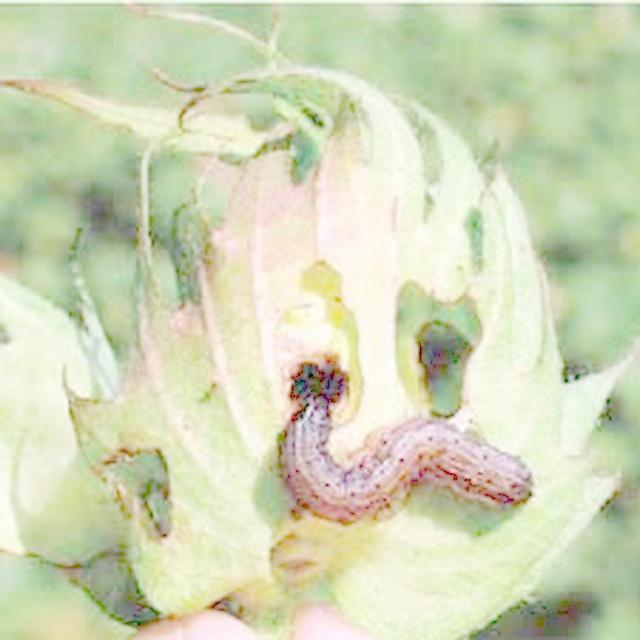gusano_cogollero: (288, 400, 528, 522)
